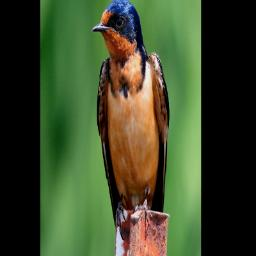Swallow: (92, 0, 170, 243)
